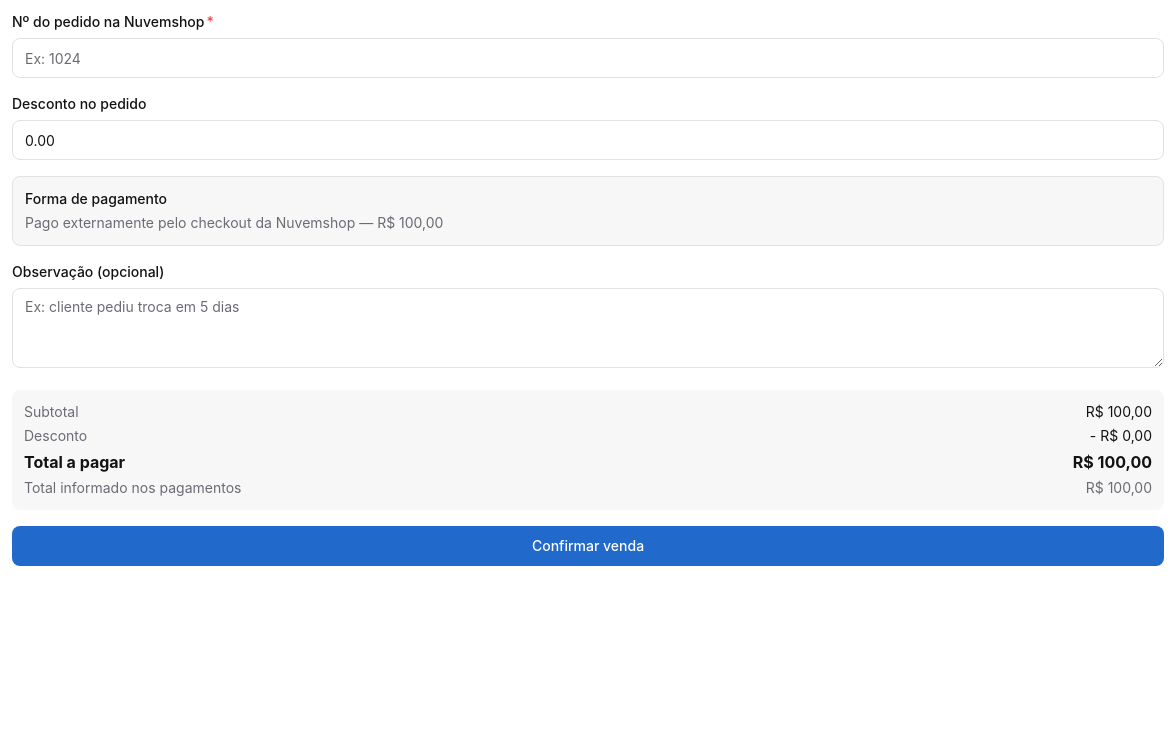
Test case: PdvPagamentoForm — canais de venda › canal Nuvemshop › bloqueia a confirmação e mostra erro inline quando o número está vazio
The width and height of the screenshot is (1176, 732).
Click the button "Confirmar venda" at (588, 546), box [12,526,1164,566]
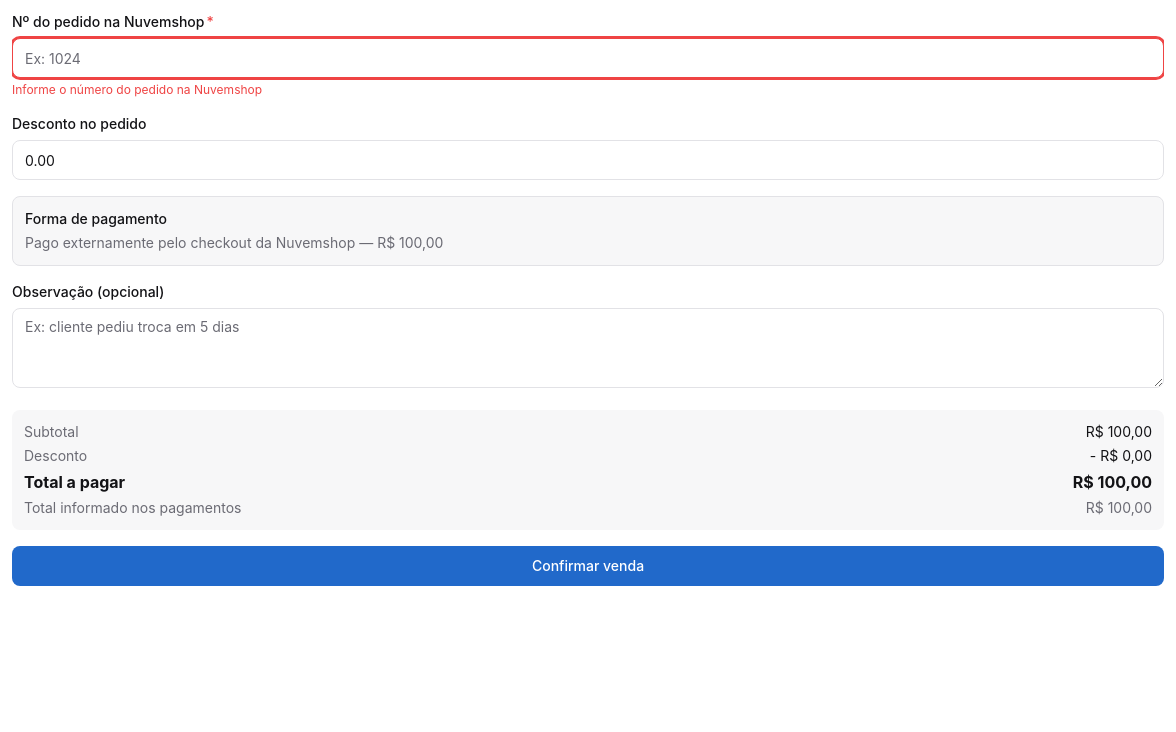
Now the text "Informe o número do pedido na Nuvemshop" is shown, box [12,82,262,97]
